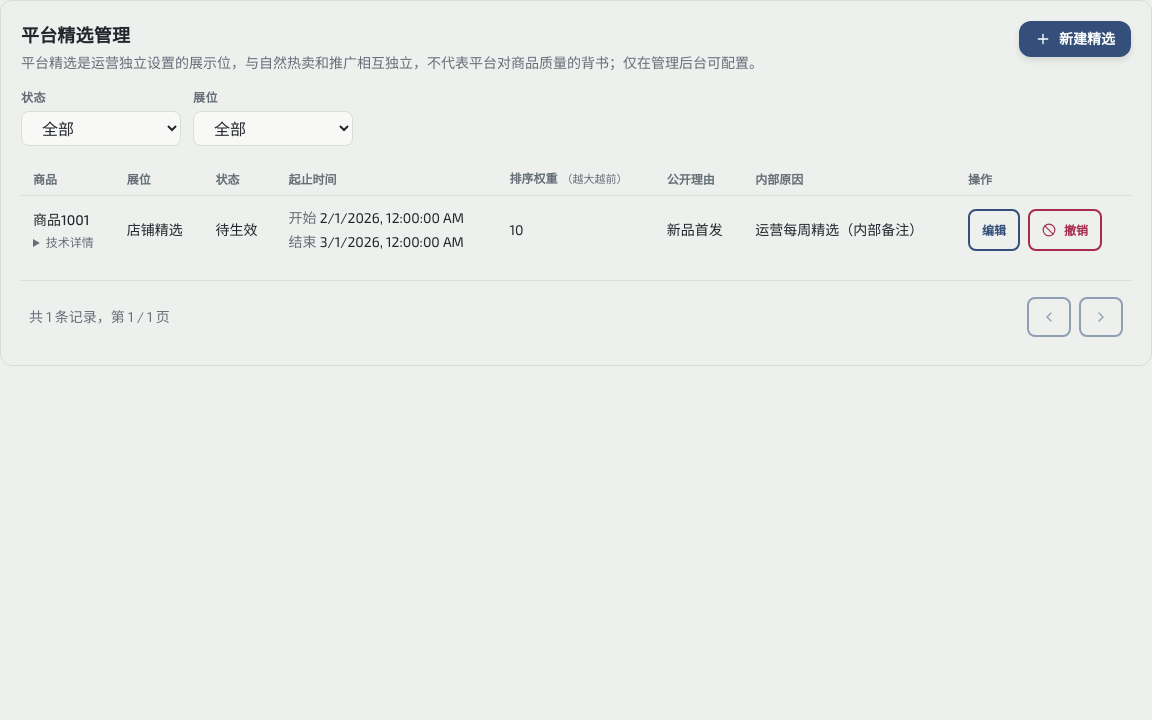
Test: AdminEditorialManager edit (T-MERCH-FE-003 §edit) › prefills the edit form from the DTO with productId read-only and ISO → datetime-local
The image size is (1152, 720).
Expected: the table named "平台精选列表" is shown, x1=21 y1=162 x2=1131 y2=264
Click the button "编辑".
click(994, 230)  # box x1=968 y1=209 x2=1020 y2=251
(page scrolled)
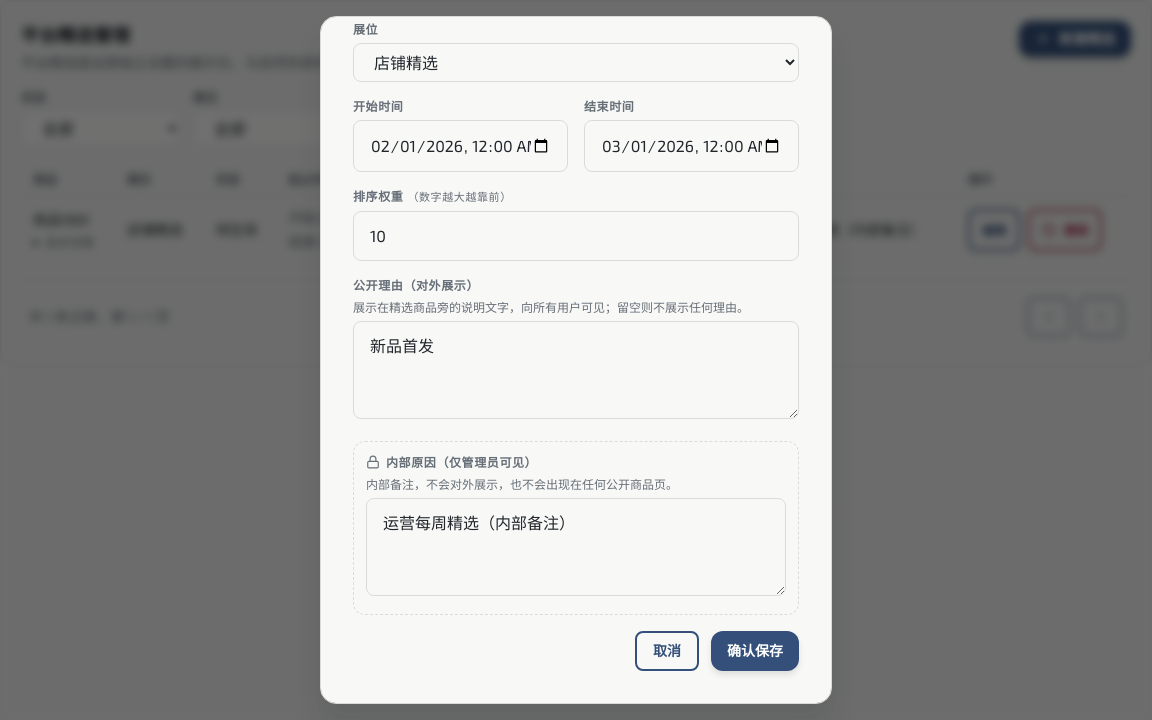
Expected: the dropdown labelled "展位" shows "店铺精选", x1=353 y1=43 x2=799 y2=82
Expected: the field labelled "开始时间" holds "2026-02-01T00:00", x1=353 y1=120 x2=568 y2=172
Expected: the field labelled "结束时间" holds "2026-03-01T00:00", x1=584 y1=120 x2=799 y2=172
